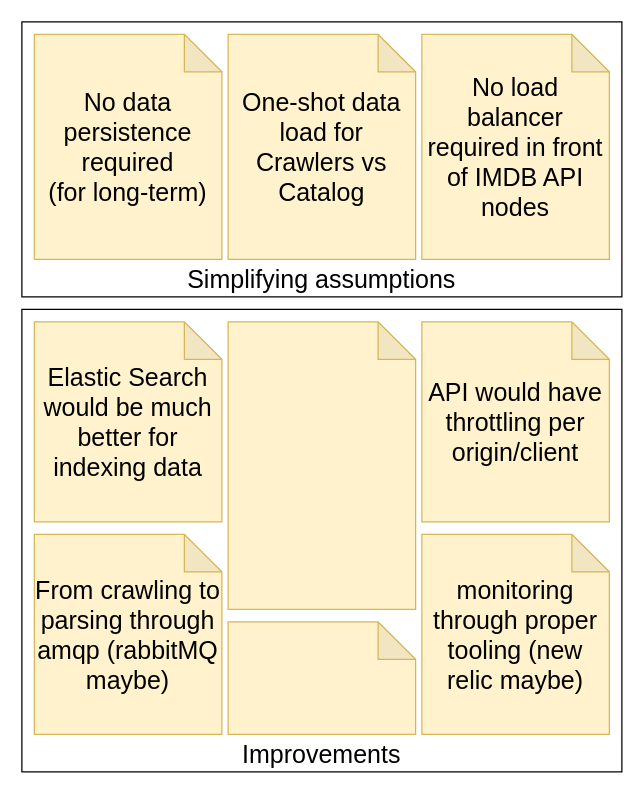
Image size: 644x794. Some labels were removed from this diagram. The shapes that lost their labels are listed below. From the top down, each one's centre as x and y in pixels, then its label:
pixel 321 465: APIs would have authentication and authorization process (oauth2)
pixel 321 677: + load balancer (nginx)
